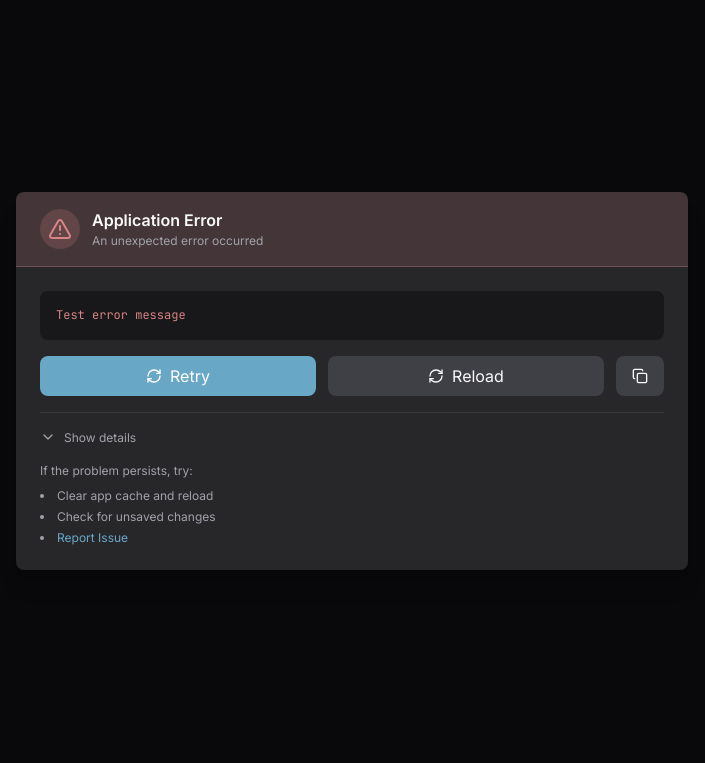
Test case: ErrorBoundary › User Interaction › clicking hide details should collapse details
Click the button "Show details" at (88, 437), box x1=40 y1=429 x2=136 y2=446
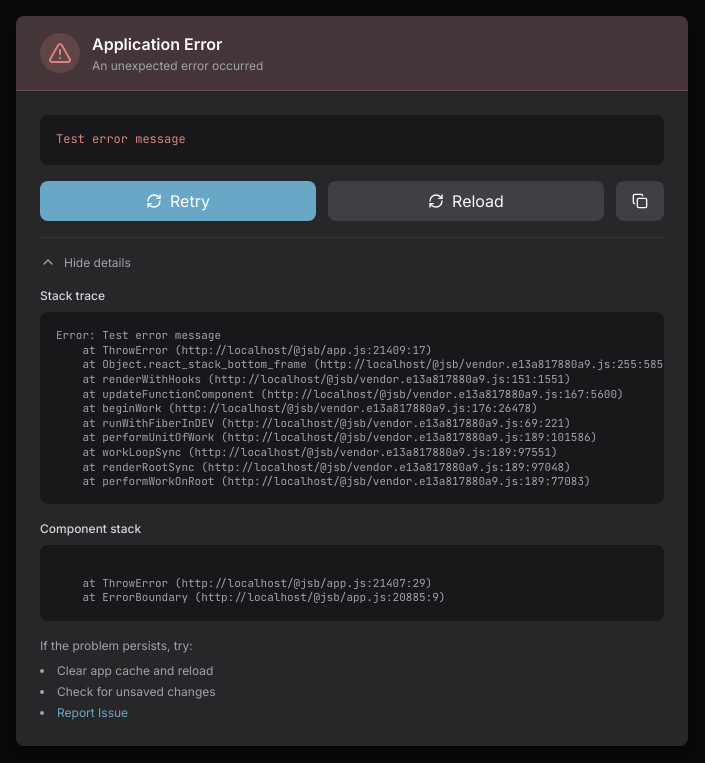
expect the heading "Stack trace" is shown: met, box x1=40 y1=288 x2=105 y2=303
Click the button "Hide details" at (85, 262), box x1=40 y1=254 x2=131 y2=271
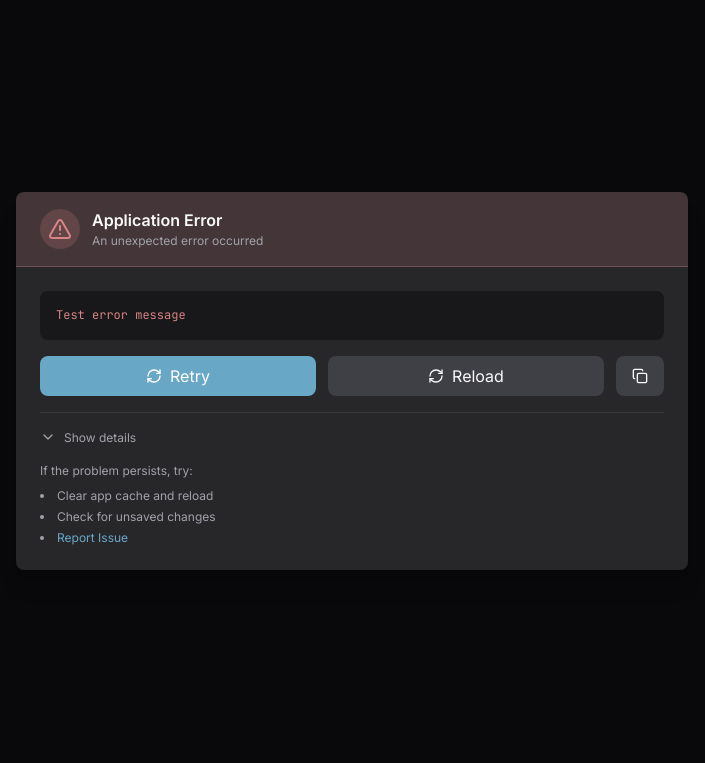
expect the heading "Stack trace" is gone: met
